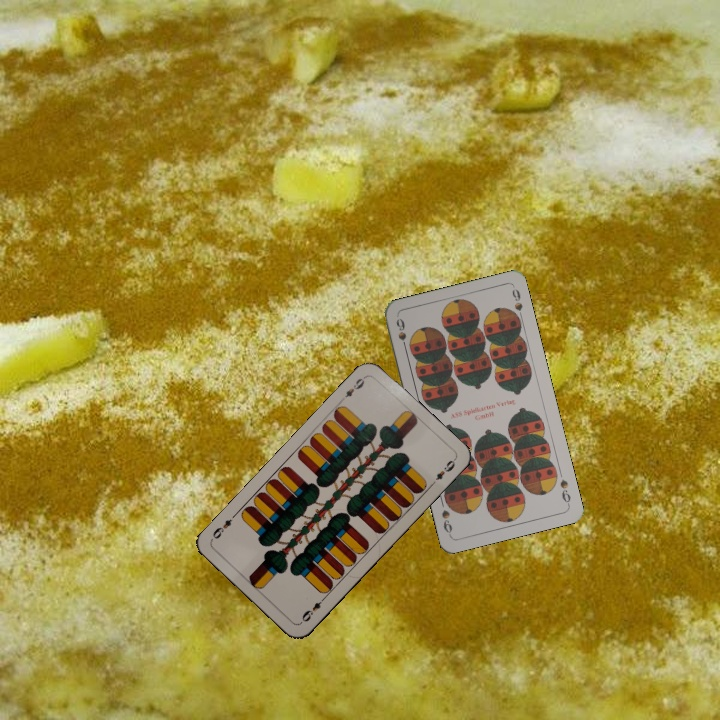E9: (337, 372, 369, 404), (297, 593, 328, 626)
S9: (392, 314, 410, 354), (556, 475, 573, 508)
